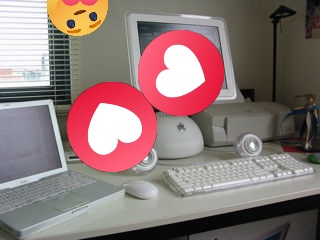care: (47, 0, 108, 36)
love: (67, 82, 157, 172), (138, 30, 224, 116)
